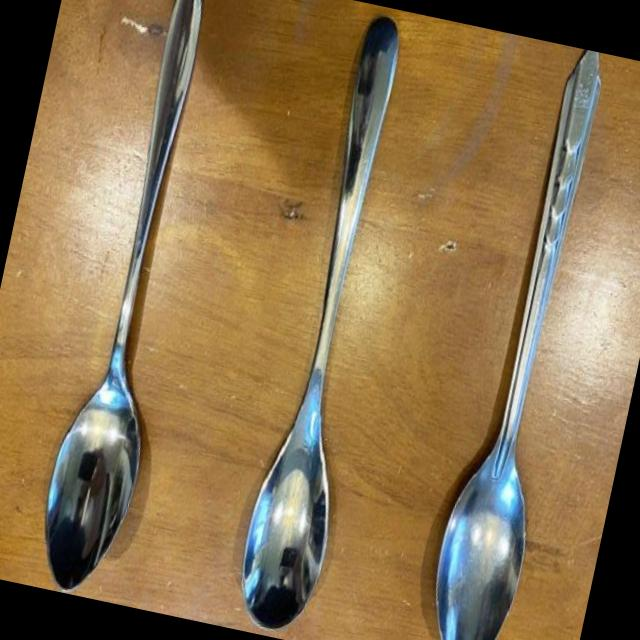spoon: (412, 41, 628, 640)
